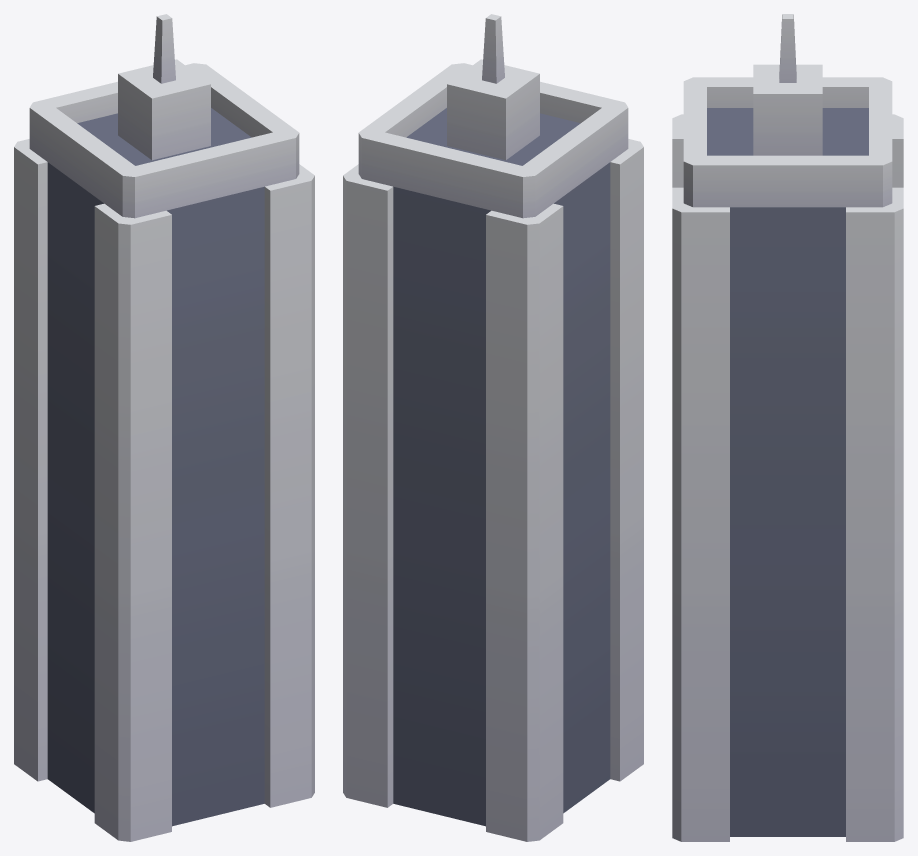
The model's file is commercial__low-detail-building-l.glb.
3 views of the same model, side by side, from view 1: azimuth 30°, elevation 25°; view 2: azimuth 150°, elevation 25°; view 3: azimuth 270°, elevation 25° (orthographic). The views are drawn at different scales.
Parts seen in each view (by area): view 1: low-detail-building-l; view 2: low-detail-building-l; view 3: low-detail-building-l.
Boxes of the visible parts, left/top/right/bottom form: low-detail-building-l: left=14, top=14, right=314, bottom=841; low-detail-building-l: left=343, top=14, right=643, bottom=841; low-detail-building-l: left=672, top=14, right=903, bottom=841.
Bounding box in the file's own units: 0.5001 × 1.85 × 0.5001.
Materials: 1 (1 with a texture image).
